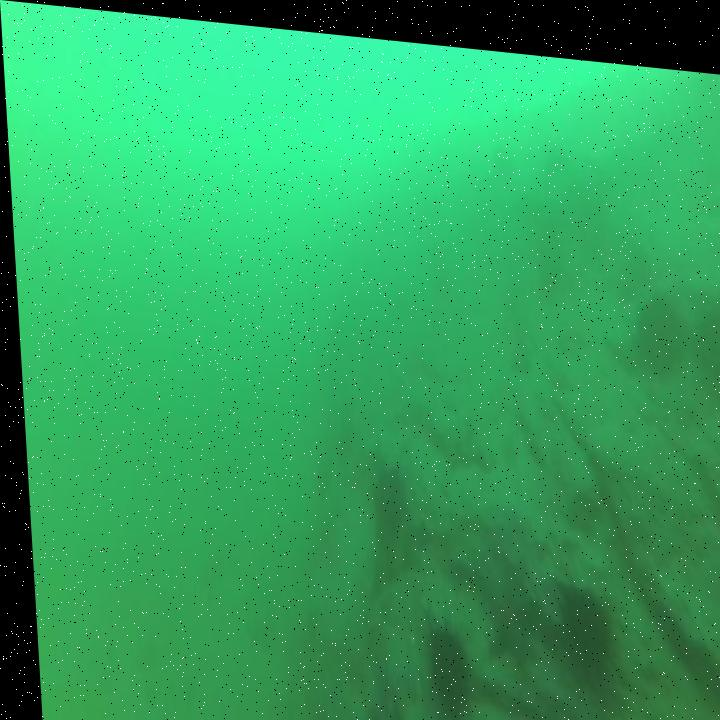echinus: (541, 554, 616, 686), (411, 597, 472, 719), (362, 454, 404, 545)
starfish: (475, 554, 534, 671)
